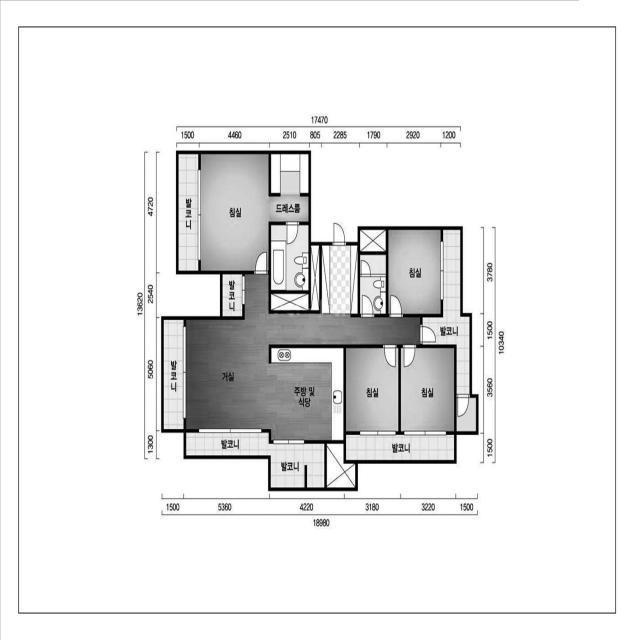space_balconi: (422, 230, 470, 394), (186, 432, 325, 488), (346, 435, 454, 460), (178, 154, 198, 271), (164, 320, 184, 429), (222, 274, 242, 316)
space_bedroom: (201, 154, 269, 271), (346, 348, 399, 432), (388, 230, 441, 314), (401, 348, 454, 432)
space_dressroom: (271, 154, 309, 222)
space_front: (322, 245, 358, 314)
space_kitchen: (271, 348, 344, 440)
space_living_room: (186, 274, 420, 429)
space_other: (326, 443, 355, 488), (456, 397, 476, 432), (271, 293, 309, 311), (310, 245, 320, 311), (360, 229, 386, 252)
space_toilet: (271, 225, 309, 290), (360, 255, 386, 314)
